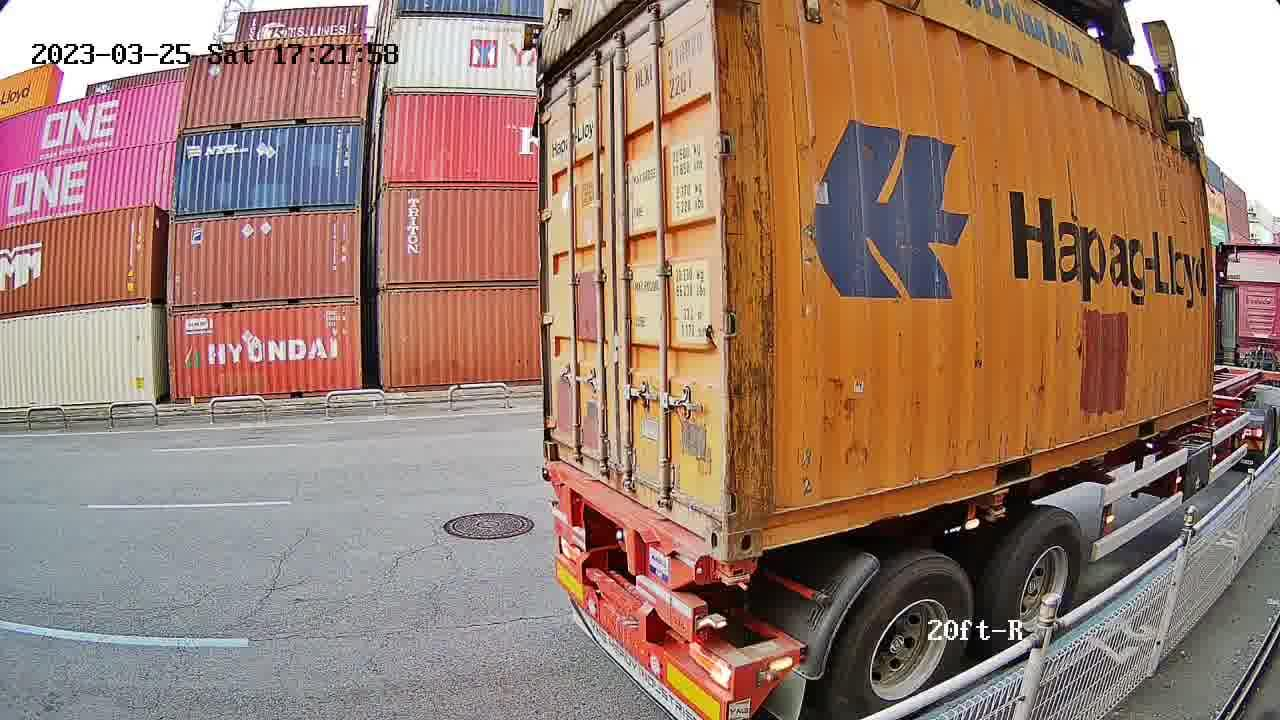Chassis: (544, 458, 753, 591)
Cone: (714, 562, 756, 589)
Hole_L: (725, 487, 797, 562), (542, 418, 578, 469)
Hole_R: (683, 482, 725, 559)
Tire: (842, 560, 973, 718), (999, 512, 1084, 656)
